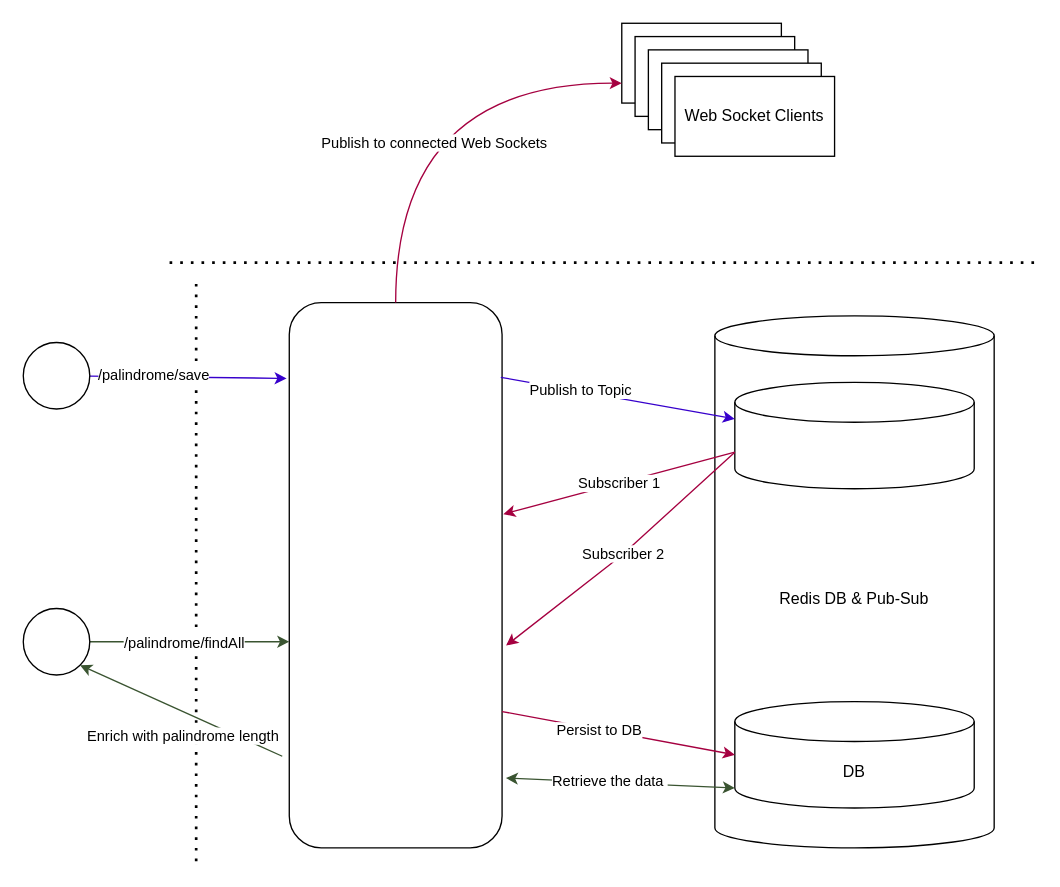
This 1060x887 diagram has some shape labels left out. Each missing label, with the centre of its shape:
"Palindrome Checker Spring Boot Application" belongs at point 395,574.
"Pub-sub" belongs at point 853,435.
